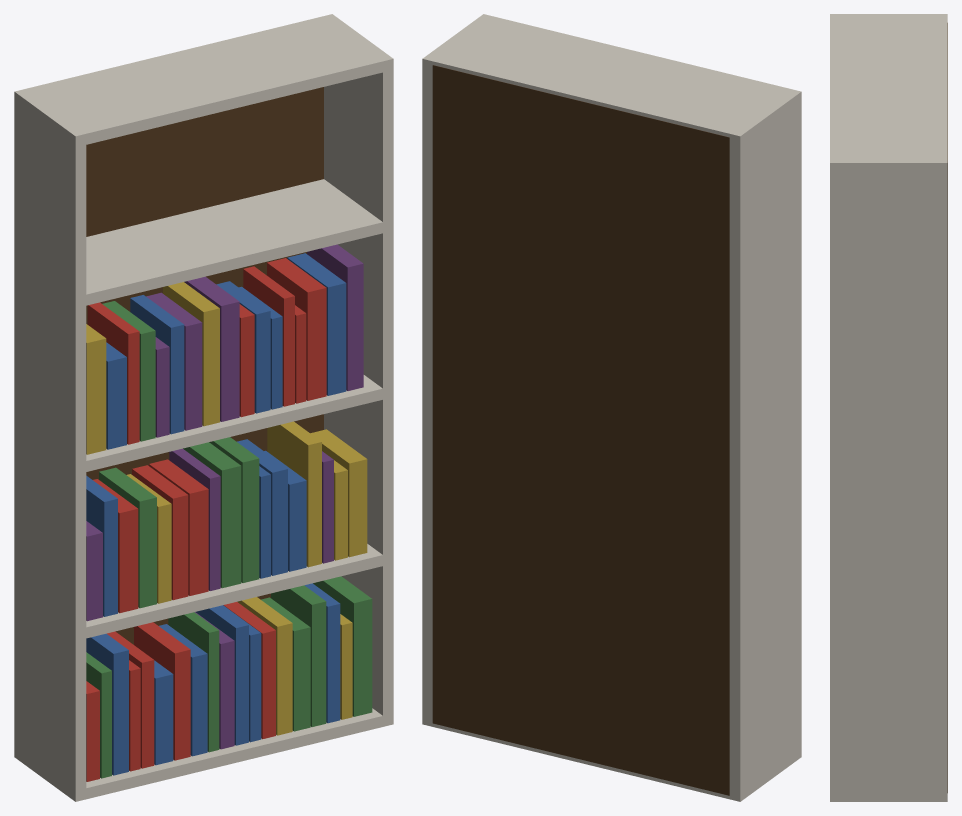
File: bookshelf.glb
3 renders of one model, left to right at view 1: azimuth 30°, elevation 25°; view 2: azimuth 150°, elevation 25°; view 3: azimuth 270°, elevation 25°, orthographic. The views are drawn at different scales.
Visible parts, largest first — view 1: bookshelf; view 2: bookshelf; view 3: bookshelf.
Part boxes in pixels (box(x1,y1,x2,y2)): bookshelf: box(14, 14, 393, 801); bookshelf: box(422, 14, 801, 801); bookshelf: box(830, 14, 947, 801).
Bounding box in the file's own units: 0.9 × 1.8 × 0.301.
